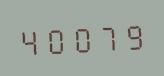four: (18, 23, 42, 58)
nine: (118, 18, 142, 52)
seven: (93, 19, 117, 54)
zero: (68, 20, 92, 55), (43, 22, 67, 56)
